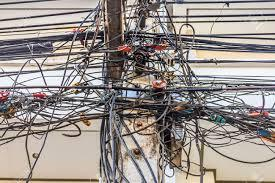wires-only: (126, 1, 275, 175), (1, 0, 105, 140)
